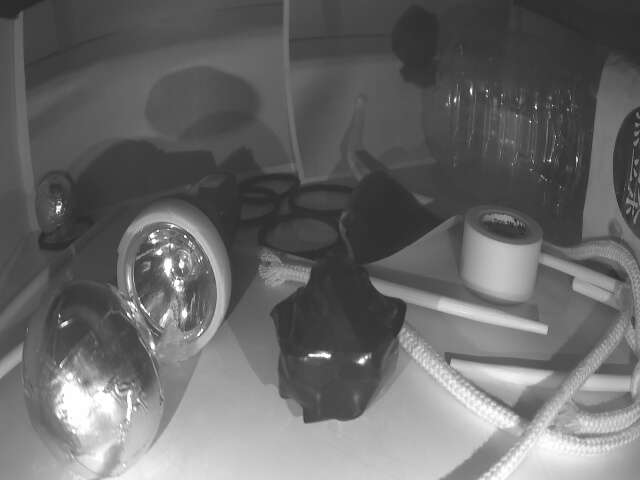Dead: (275, 250, 401, 426)
Live: (21, 288, 164, 480), (31, 174, 80, 239)
